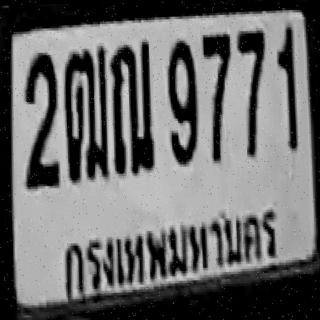A18: (62, 46, 109, 180)
A19: (109, 39, 154, 174)
N01: (275, 25, 297, 150)
N02: (20, 51, 60, 188)
N07: (201, 32, 234, 161), (236, 28, 267, 157)
N09: (164, 38, 198, 164)
P04: (54, 197, 287, 306)
